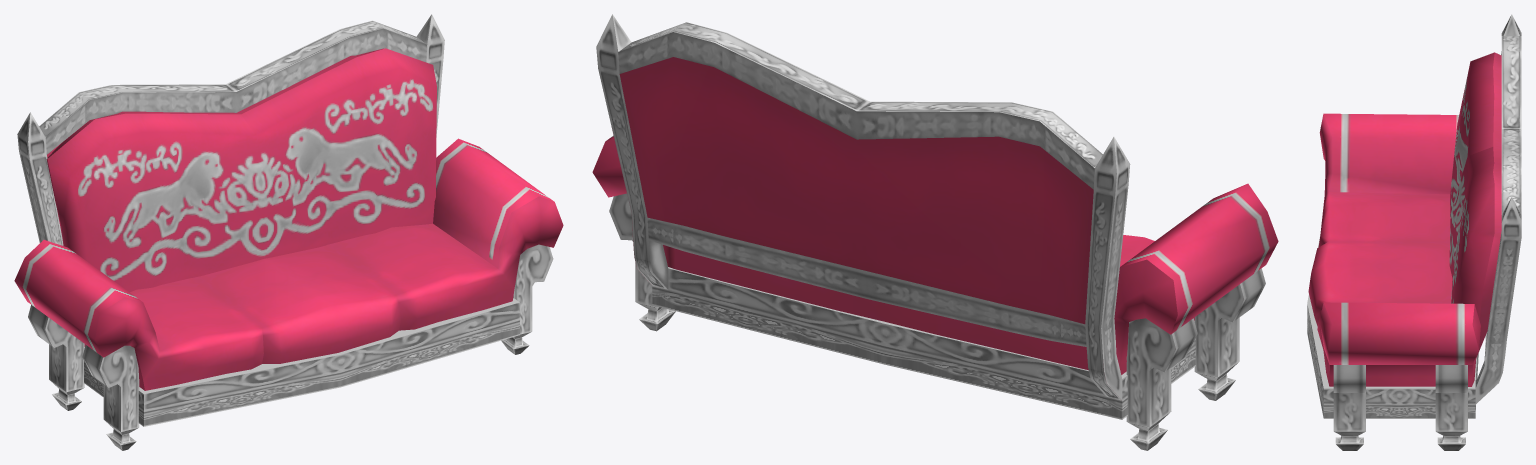
The model's file is QueenSofa_HD.fbx.
3 renders of one model, left to right at view 1: azimuth 30°, elevation 25°; view 2: azimuth 150°, elevation 25°; view 3: azimuth 270°, elevation 25°, orthographic. The views are drawn at different scales.
Parts seen in each view (by area): view 1: QueenSofa; view 2: QueenSofa; view 3: QueenSofa.
Part boxes in pixels (x1,y1,x2,y2): QueenSofa: [14, 14, 563, 450]; QueenSofa: [592, 14, 1278, 450]; QueenSofa: [1307, 14, 1521, 450].
Bounding box in the file's own units: 1.98 × 1.12 × 0.8429.
